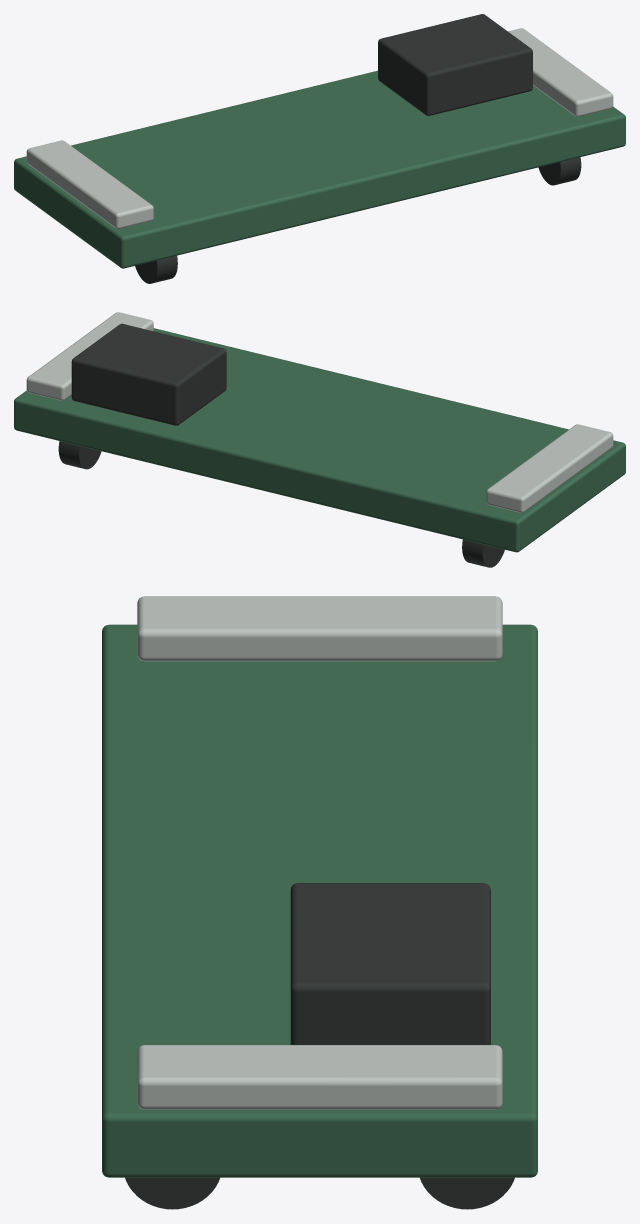
File: sawmill-and-timber-yard-saw-head-carriage-52655c63__31164.glb
3 renders of one model, top to bottom at view 1: azimuth 30°, elevation 25°; view 2: azimuth 150°, elevation 25°; view 3: azimuth 270°, elevation 25°, orthographic. The views are drawn at different scales.
Parts seen in each view (by area): view 1: saw-head-carriage; view 2: saw-head-carriage; view 3: saw-head-carriage.
Part boxes in pixels (x1=…): saw-head-carriage: x1=14, y1=14, x2=625, y2=283; saw-head-carriage: x1=14, y1=312, x2=625, y2=567; saw-head-carriage: x1=102, y1=596, x2=537, y2=1209.
Bounding box in the file's own units: 1.98 × 0.4099 × 0.7399.
